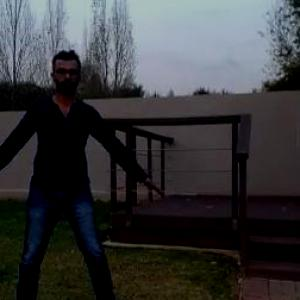land: (0, 48, 151, 298)
